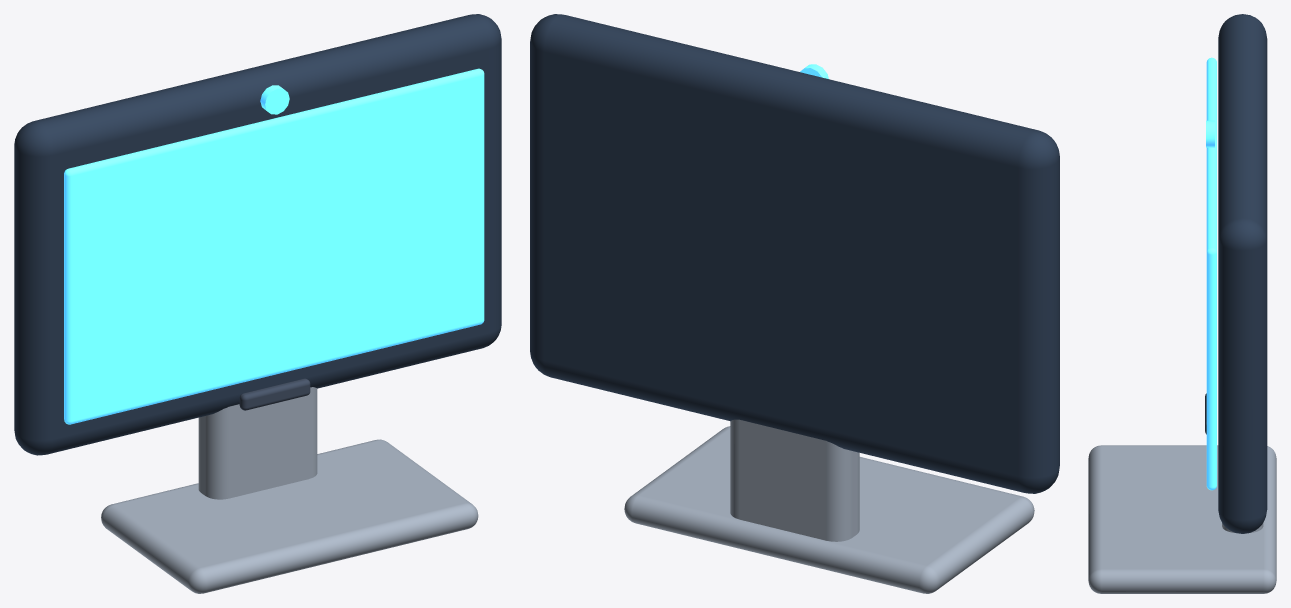
Rendered from computer.glb.
3 views of the same model, side by side, from view 1: azimuth 30°, elevation 25°; view 2: azimuth 150°, elevation 25°; view 3: azimuth 270°, elevation 25° (orthographic). The views are drawn at different scales.
Visible parts, largest first — view 1: screen, soft-touch-plastic, brushed-aluminum, powder-coated-metal; view 2: soft-touch-plastic, brushed-aluminum; view 3: soft-touch-plastic, brushed-aluminum, screen.
Boxes of the visible parts, box(x1,y1,x2,y2) form: screen: box(64, 68, 484, 424); soft-touch-plastic: box(14, 14, 501, 455); brushed-aluminum: box(101, 387, 478, 593); powder-coated-metal: box(239, 378, 310, 410); soft-touch-plastic: box(530, 14, 1059, 493); brushed-aluminum: box(624, 419, 1034, 593); soft-touch-plastic: box(1218, 14, 1267, 533); brushed-aluminum: box(1088, 445, 1276, 593); screen: box(1206, 57, 1216, 490).
Bounding box in the file's own units: 0.7 × 0.6075 × 0.25.
